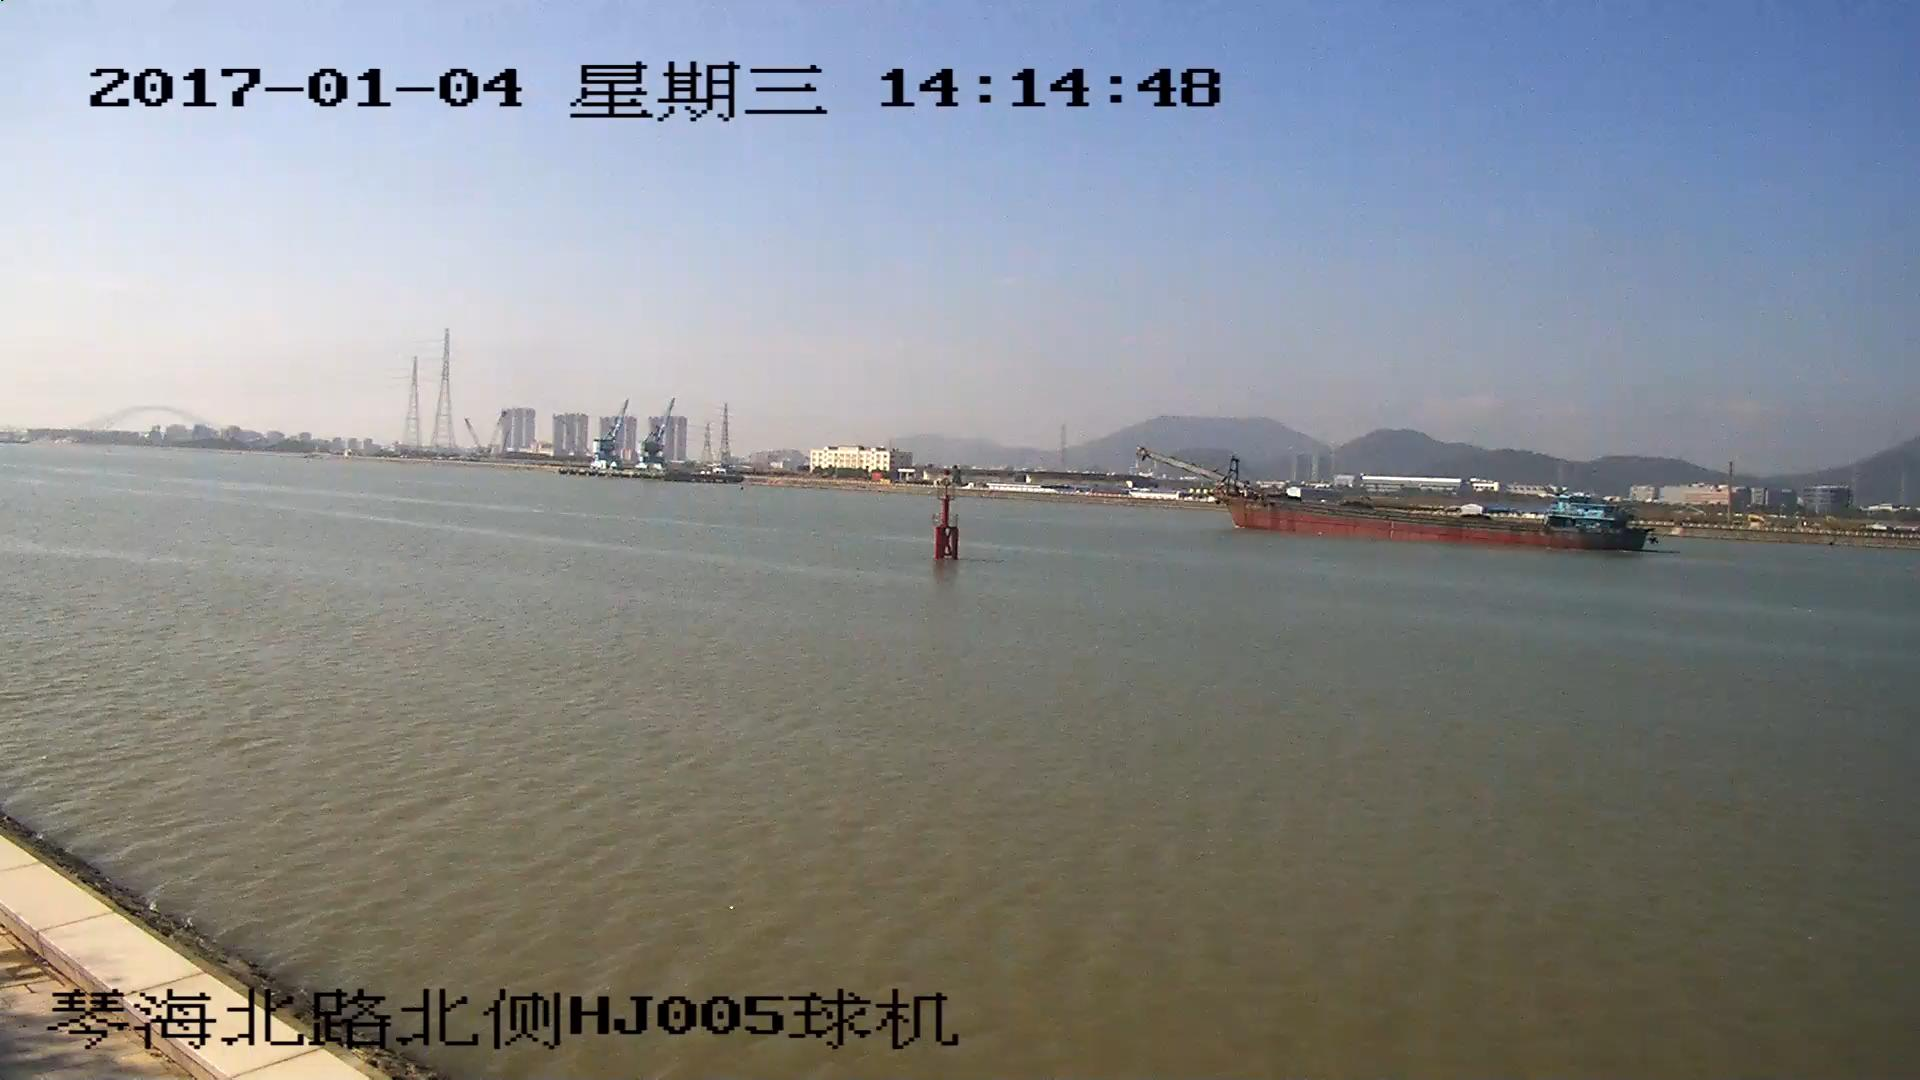bulk cargo carrier: (1144, 448, 1649, 548)
